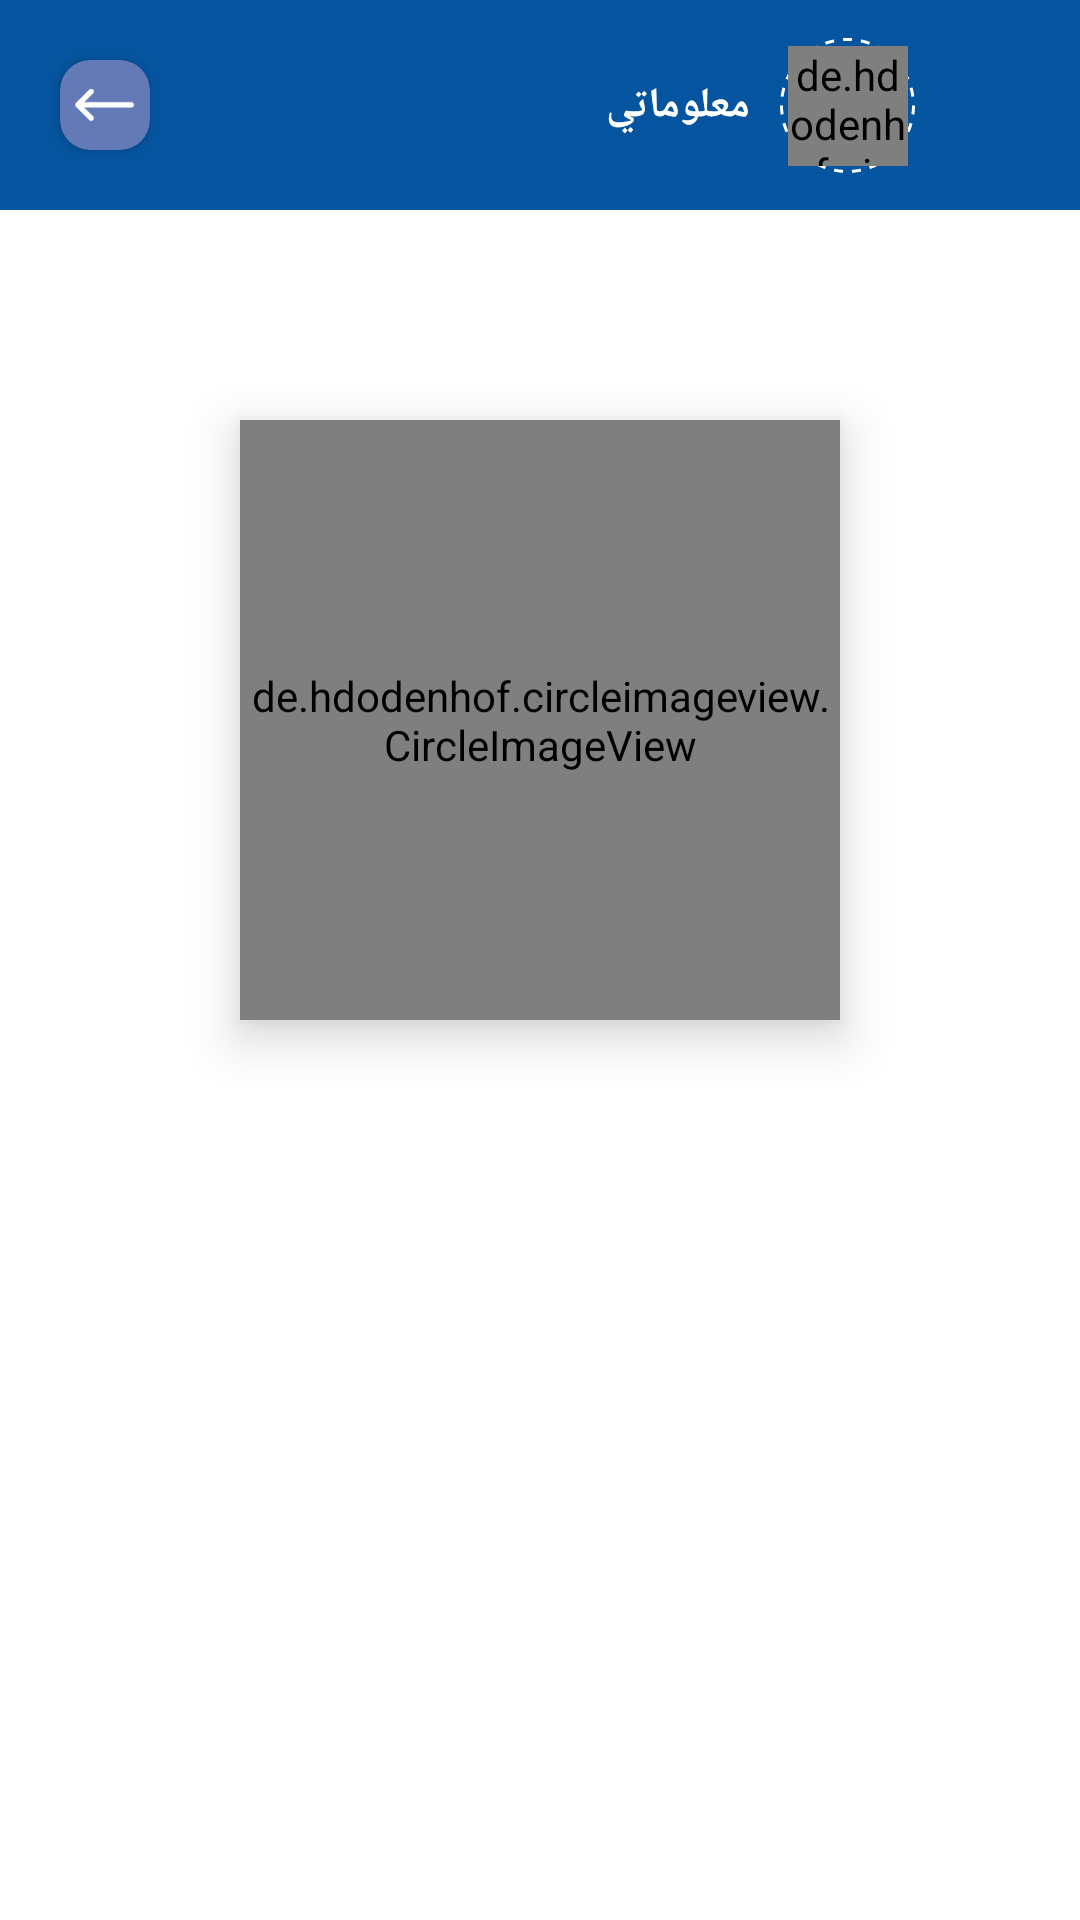

Icon bounding boxes for this 1080×1920 phone screenshot, format (x1, y1, x2, y2):
arraw: (60, 60, 150, 150)
